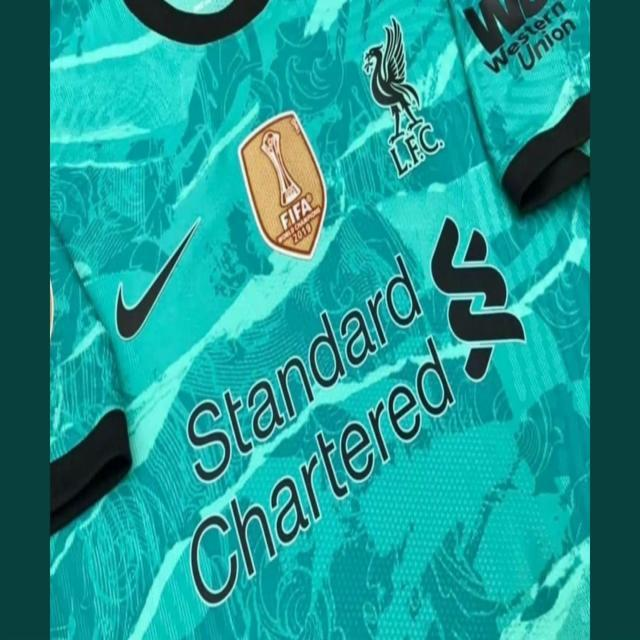Nike: (114, 219, 195, 337)
Standard Chartered: (186, 219, 522, 600)
